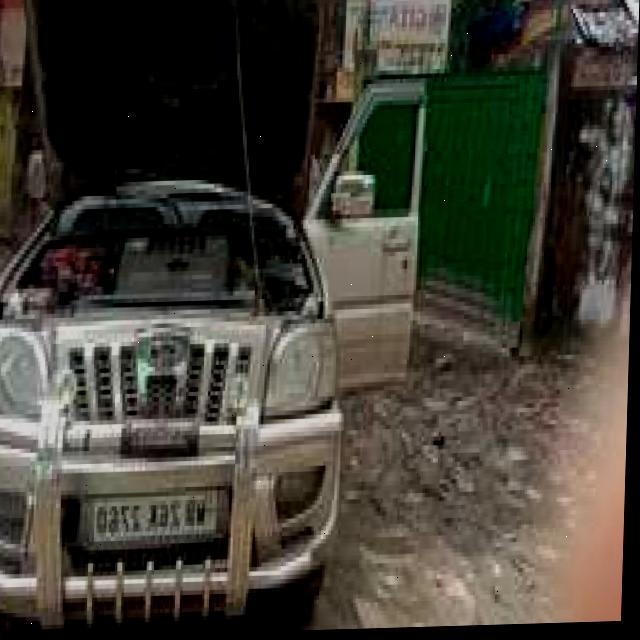plate: (92, 488, 224, 549)
